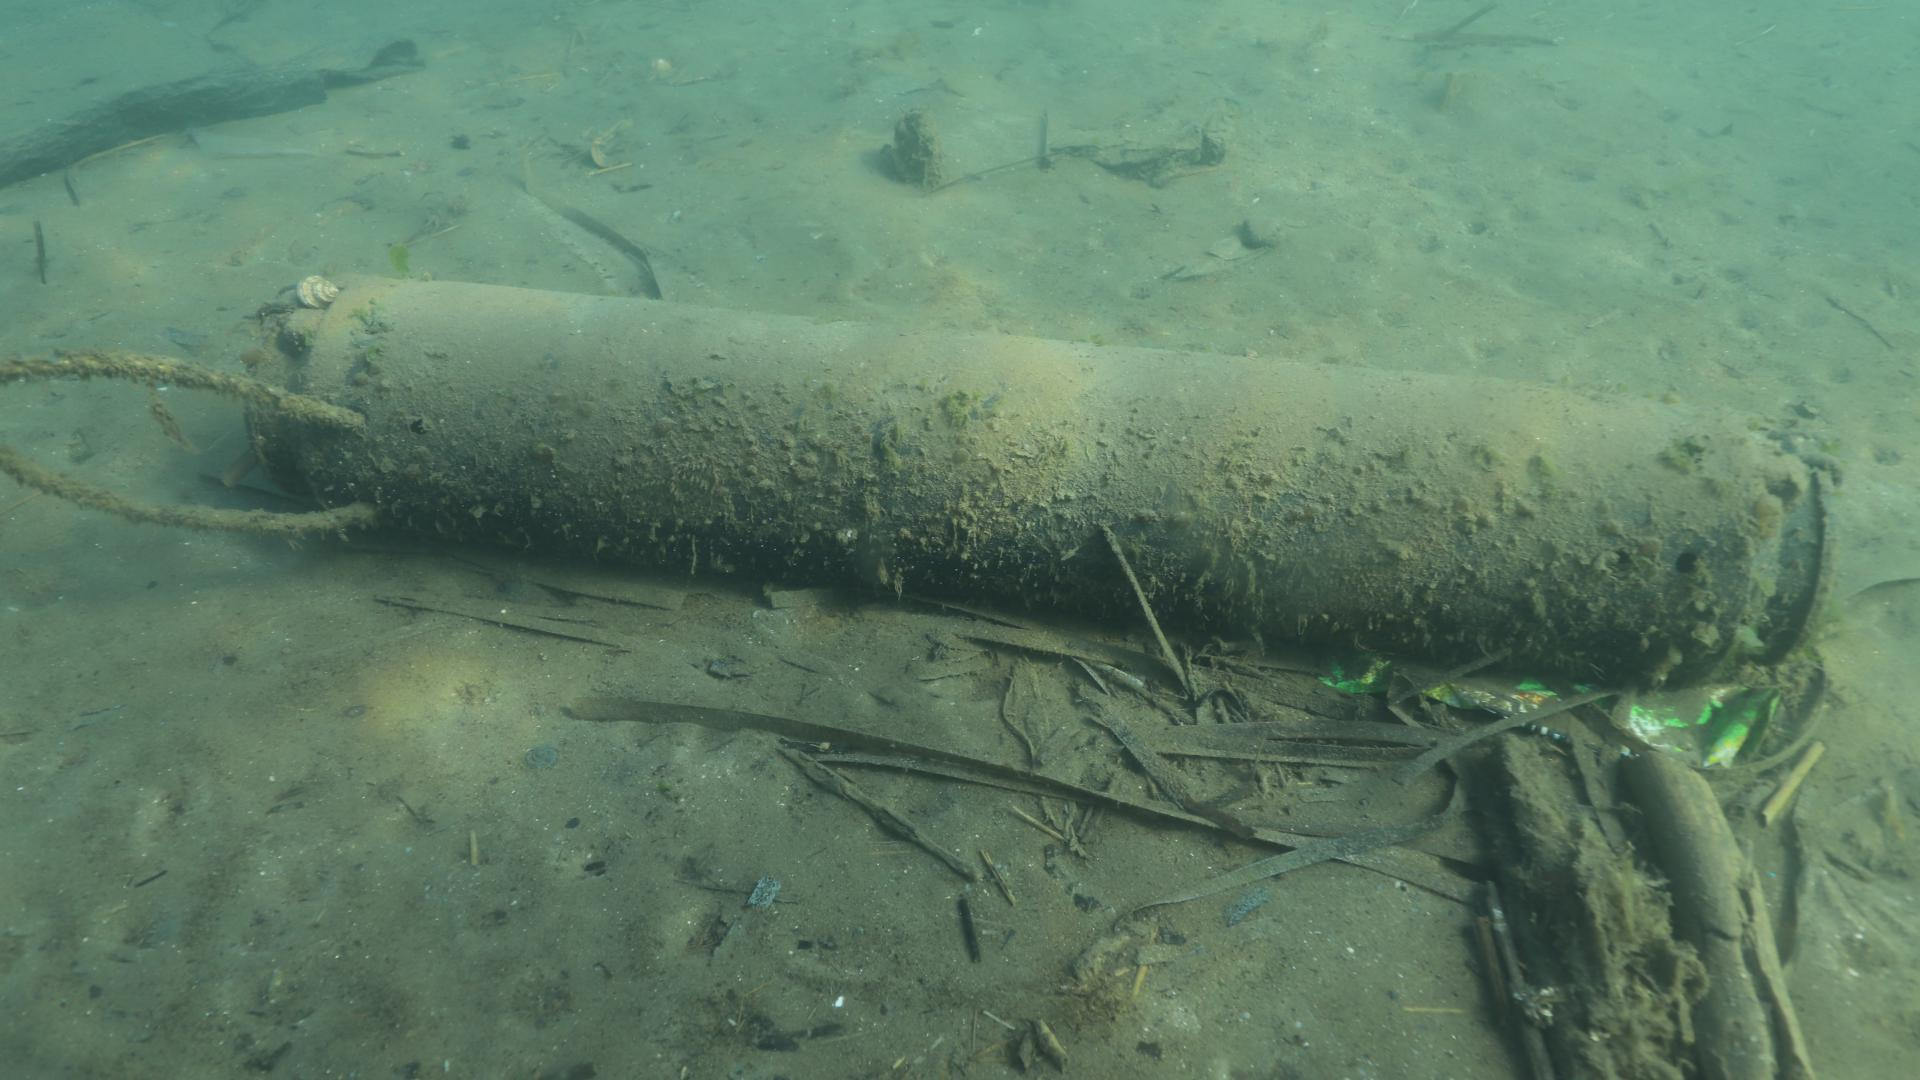eel fish trap: (243, 265, 1845, 687)
rope: (3, 349, 372, 538)
